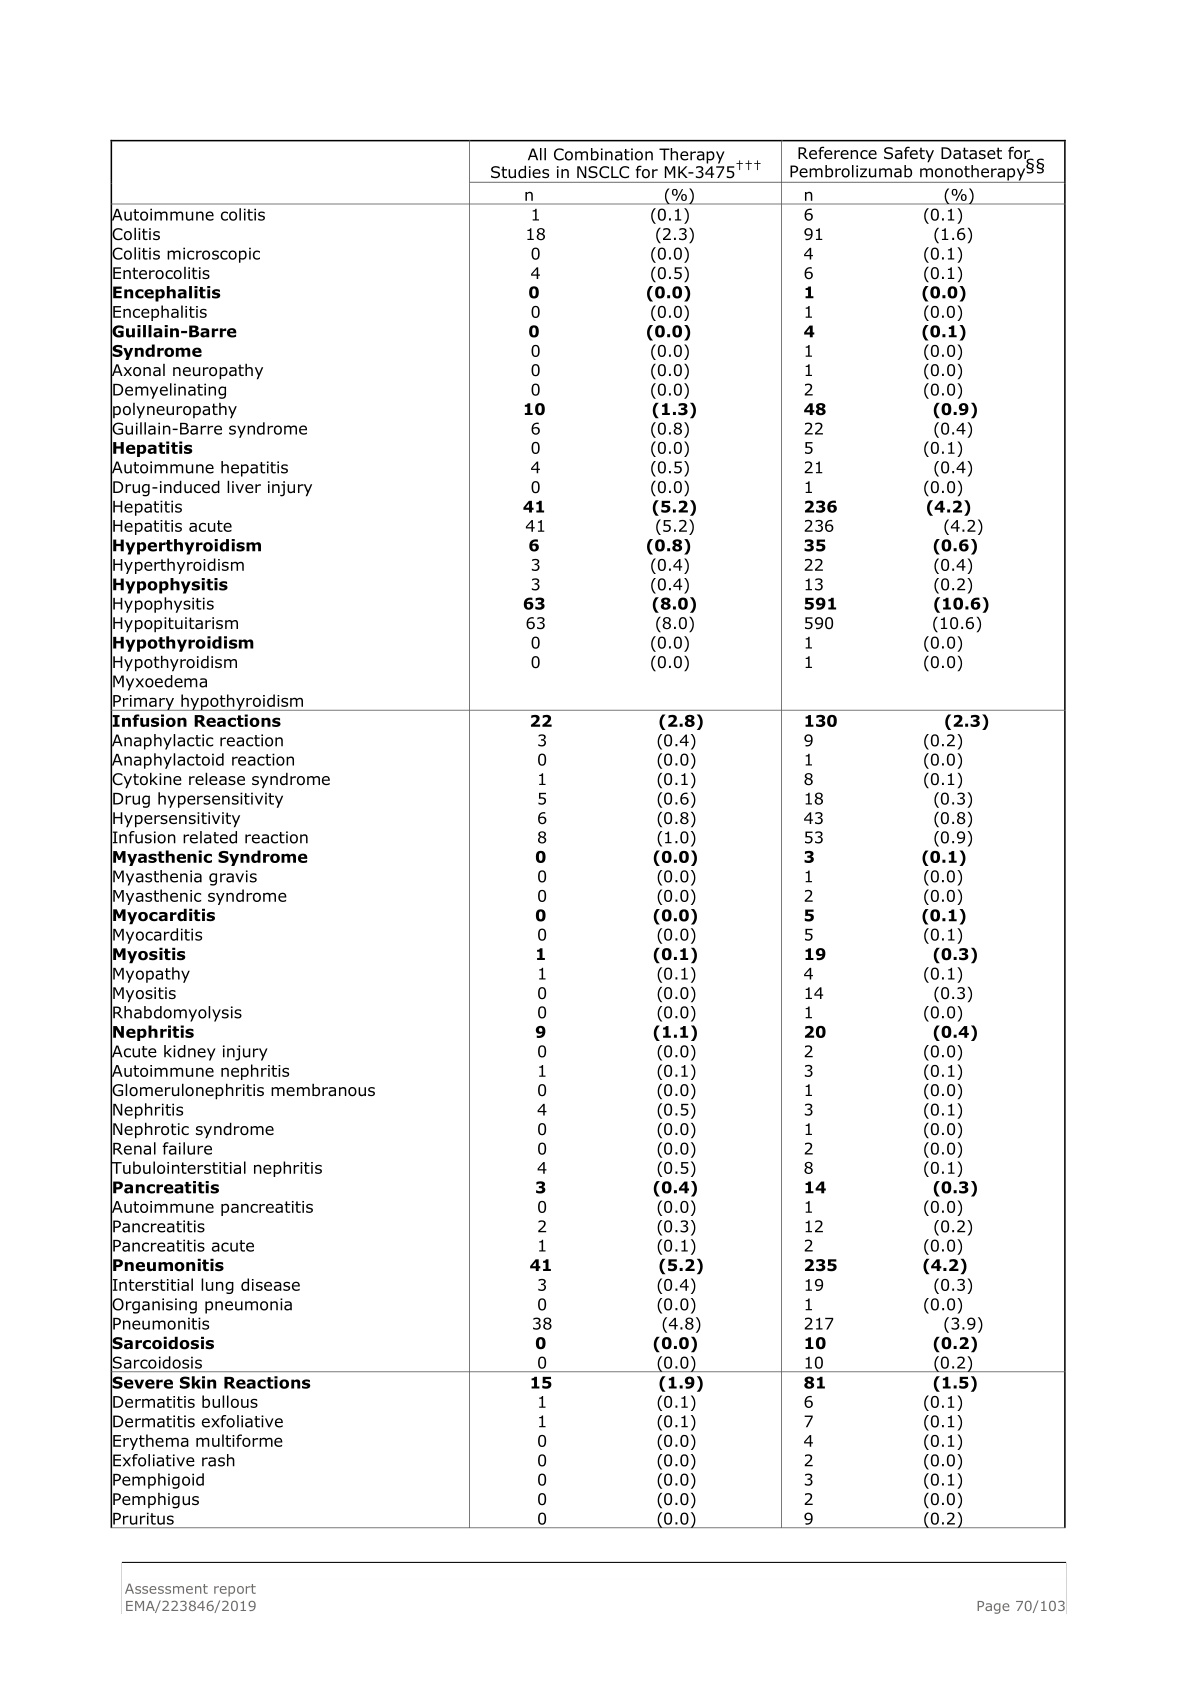partial_lined_merged_cells: (109, 139, 1066, 1529)
